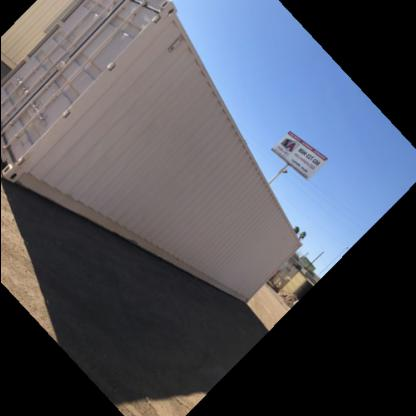Damage: (176, 252, 206, 276)
